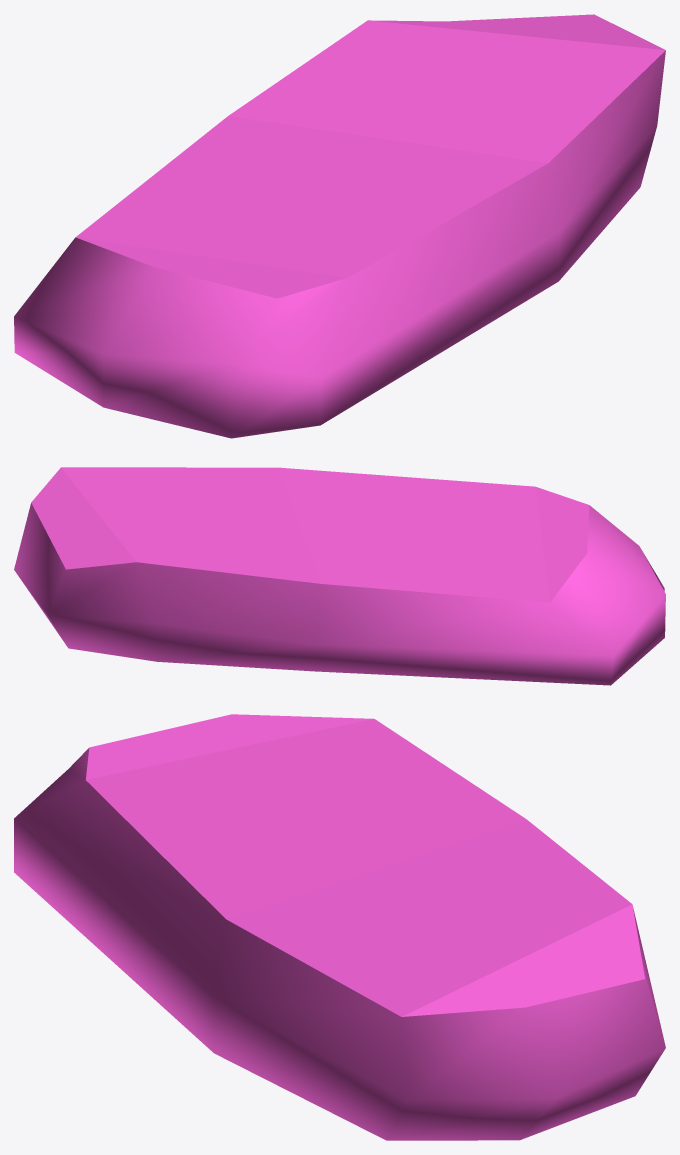
Rendered from zapatillasBale.FBX.
The picture shows the model from 3 angles, top to bottom: view 1: azimuth 30°, elevation 25°; view 2: azimuth 150°, elevation 25°; view 3: azimuth 270°, elevation 25°; orthographic projection. The views are drawn at different scales.
Parts seen in each view (by area): view 1: Tutú001; view 2: Tutú001; view 3: Tutú001.
Part boxes in pixels (left/top/right/bottom): Tutú001: left=14, top=14, right=665, bottom=438; Tutú001: left=14, top=467, right=665, bottom=685; Tutú001: left=14, top=714, right=665, bottom=1140.
Bounding box in the file's own units: 30.33 × 22.4 × 5.51.
